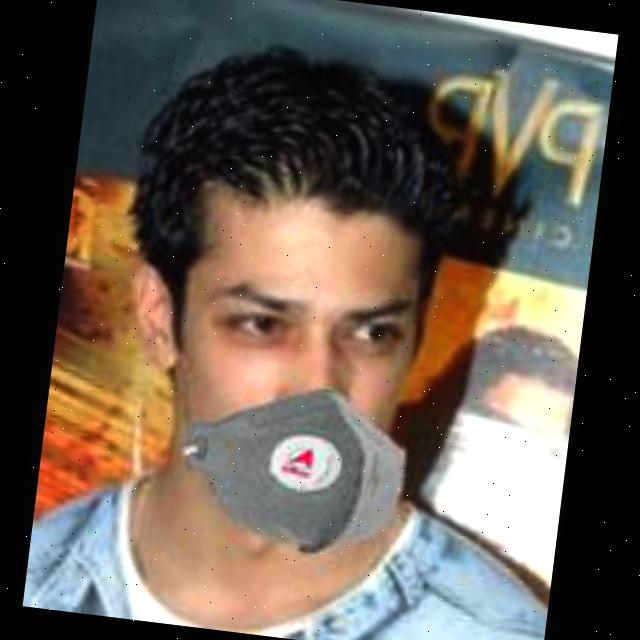suspicion: (156, 113, 458, 546)
